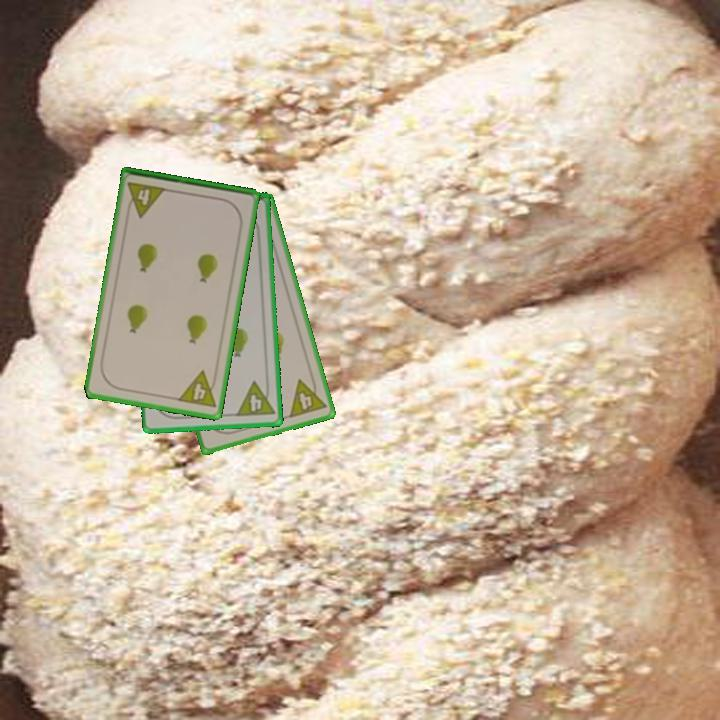4p: (285, 373, 329, 421), (174, 367, 220, 411), (233, 377, 277, 420), (123, 179, 169, 220)
